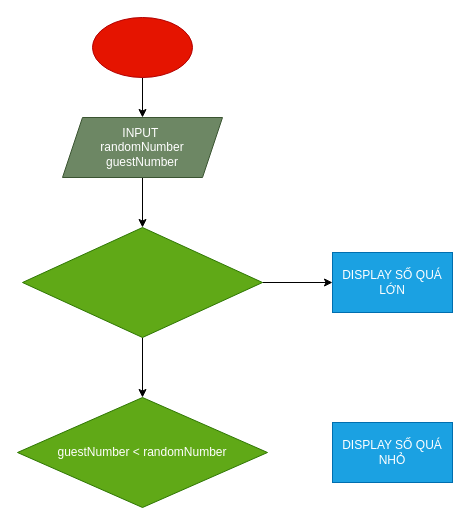
The diagram is 470 pixels wide and 525 high, and some of its shapes have lost their labels. The box of each missing label's shape, as (x1, y1, x2, y2) in pixels:
BEGIN: (92, 16, 192, 78)
guestNumber > randomNumber: (22, 226, 262, 338)
